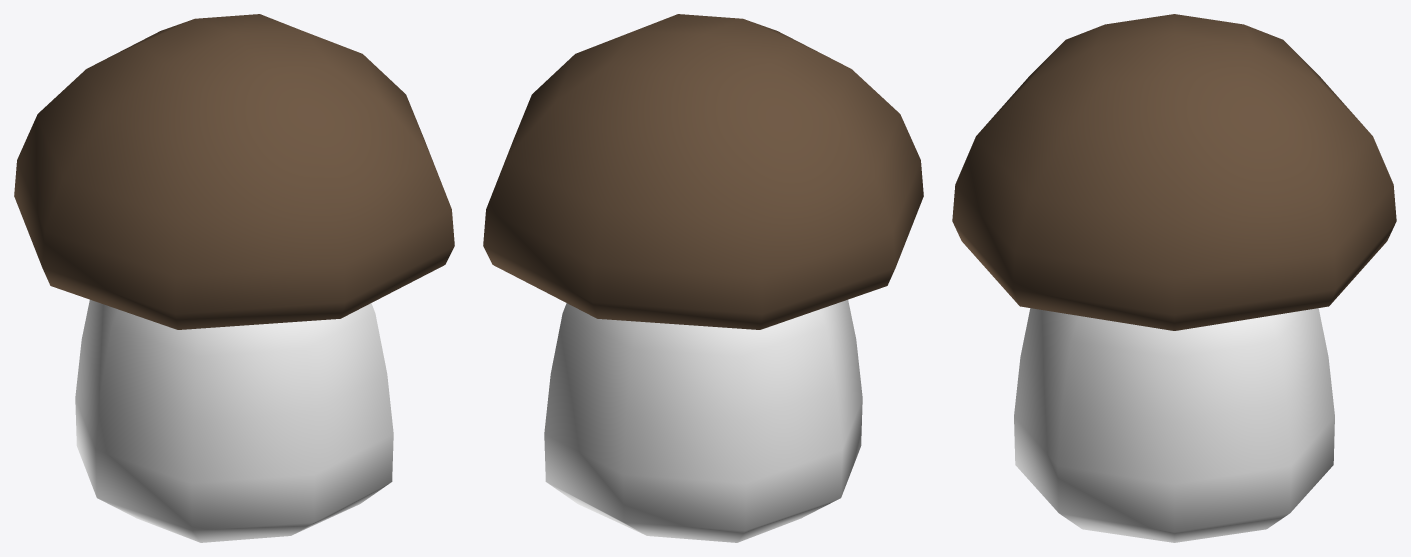
File: mushroom_eatable.fbx
3 renders of one model, left to right at view 1: azimuth 30°, elevation 25°; view 2: azimuth 150°, elevation 25°; view 3: azimuth 270°, elevation 25°, orthographic.
Parts seen in each view (by area): view 1: King_Bolete_Mushroom; view 2: King_Bolete_Mushroom; view 3: King_Bolete_Mushroom.
Part boxes in pixels (<box>): King_Bolete_Mushroom: <box>14,14,454,542</box>; King_Bolete_Mushroom: <box>483,14,923,542</box>; King_Bolete_Mushroom: <box>952,14,1396,542</box>.
Bounding box in the file's own units: 914 × 1069 × 914.
